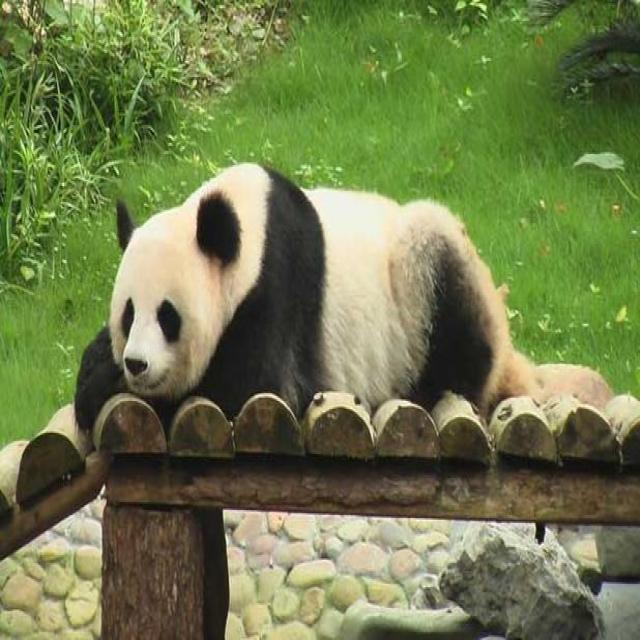panda: (70, 166, 546, 432)
